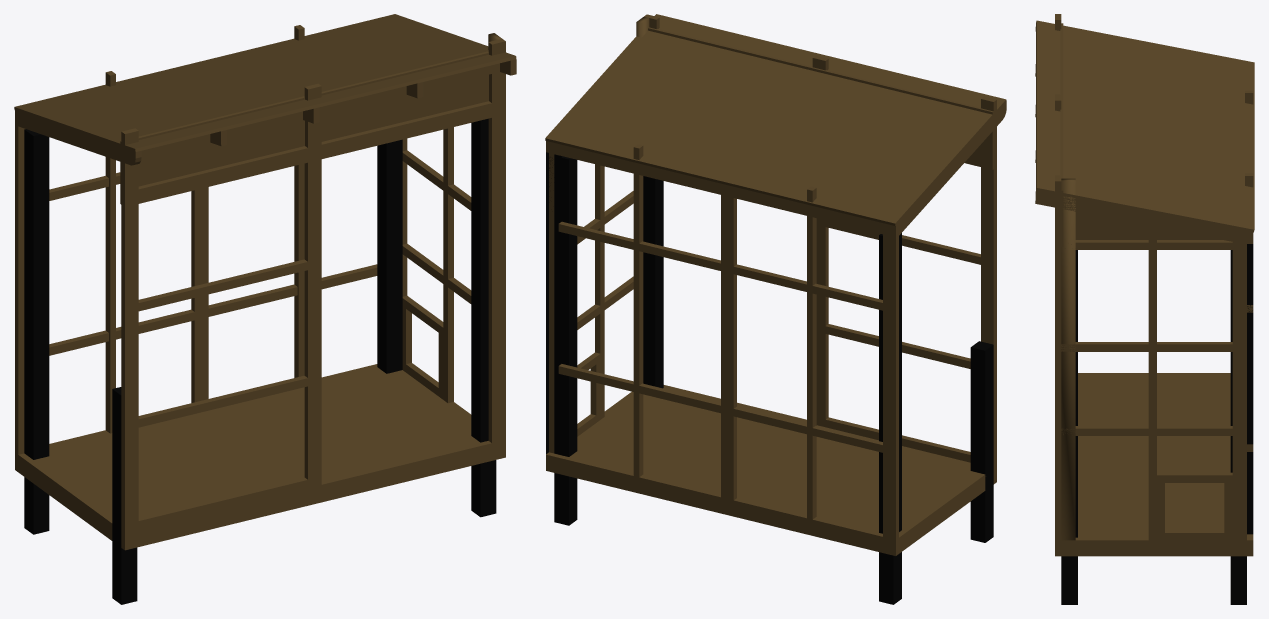
3 views of the same model, side by side, from view 1: azimuth 30°, elevation 25°; view 2: azimuth 150°, elevation 25°; view 3: azimuth 270°, elevation 25° (orthographic). The views are drawn at different scales.
Parts seen in each view (by area): view 1: Cube, Cube.001, Cube.015, Cube.013, Cube.010, 3x4.004, 3x4.005, 3x4.012, 3x4.021, Cube.012, 3x4, Cube.002 (+17 smaller); view 2: Cube.001, Cube, Cube.012, 3x4.001, Cube.002, 3x4.006, 3x4.008, Cube.011, Cube.010, 3x4.011, 3x4.004, 2z2.002 (+15 smaller); view 3: Cube.001, Cube, 3x4.023, 3x4.022, Cube.002, 3x4.024, 2z2.007, 3x4.003, 3x4.005, Cube.014, 3x4.007, 2z2.003 (+9 smaller).
Part boxes in pixels (<box>): Cube: <box>15,364,505,535</box>; Cube.001: <box>14,14,488,146</box>; Cube.015: <box>120,51,488,204</box>; Cube.013: <box>24,129,49,534</box>; Cube.010: <box>471,118,496,517</box>; 3x4.004: <box>121,128,138,532</box>; 3x4.005: <box>488,38,505,442</box>; 3x4.012: <box>121,100,505,206</box>; 3x4.021: <box>304,83,321,487</box>; Cube.012: <box>377,139,402,373</box>; 3x4: <box>121,443,505,550</box>; Cube.002: <box>125,52,516,151</box>; Cube.001: <box>545,30,993,225</box>; Cube: <box>546,385,996,542</box>; Cube.012: <box>554,156,577,525</box>; 3x4.001: <box>546,457,898,555</box>; Cube.002: <box>654,14,1006,112</box>; 3x4.006: <box>883,234,898,539</box>; 3x4.008: <box>721,195,736,500</box>; Cube.011: <box>970,341,993,542</box>; Cube.010: <box>643,176,663,388</box>; 3x4.011: <box>546,141,898,237</box>; 3x4.004: <box>981,96,996,467</box>; 2z2.002: <box>558,364,882,452</box>; Cube.001: <box>1060,25,1254,232</box>; Cube: <box>1055,373,1253,542</box>; 3x4.023: <box>1061,178,1075,540</box>; 3x4.022: <box>1232,238,1246,540</box>; Cube.002: <box>1036,20,1060,194</box>; 3x4.024: <box>1035,190,1249,243</box>; 2z2.007: <box>1148,218,1156,540</box>; 3x4.003: <box>1061,543,1246,556</box>; 3x4.005: <box>1055,175,1061,540</box>; Cube.014: <box>1075,211,1221,239</box>; 3x4.007: <box>1247,244,1253,534</box>; 2z2.003: <box>1061,342,1246,351</box>.
Bounding box in the file's own units: 2.44 × 2.9 × 1.35.
